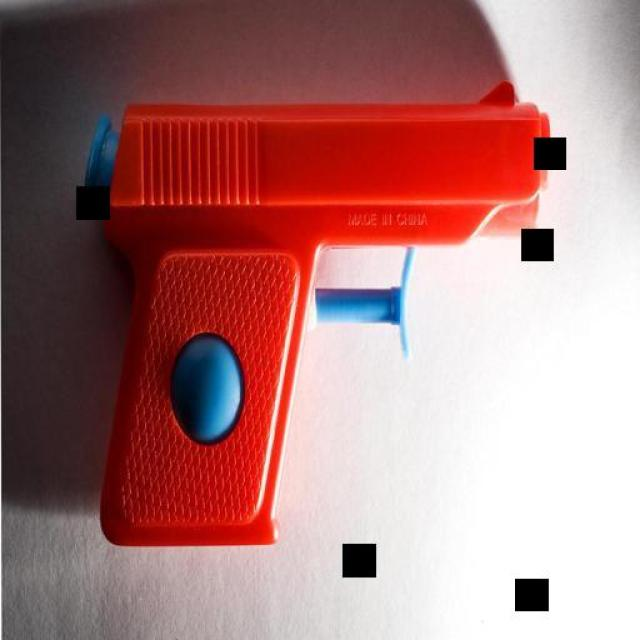gun: (75, 79, 551, 550)
